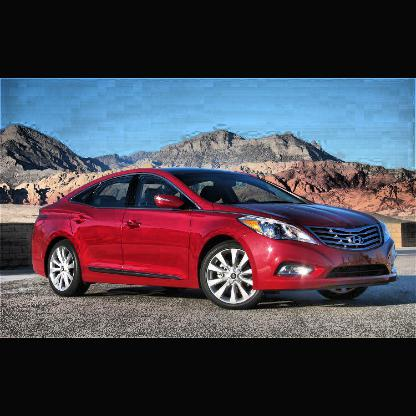Hyundai Azera Sedan 2012: (33, 169, 397, 310)
